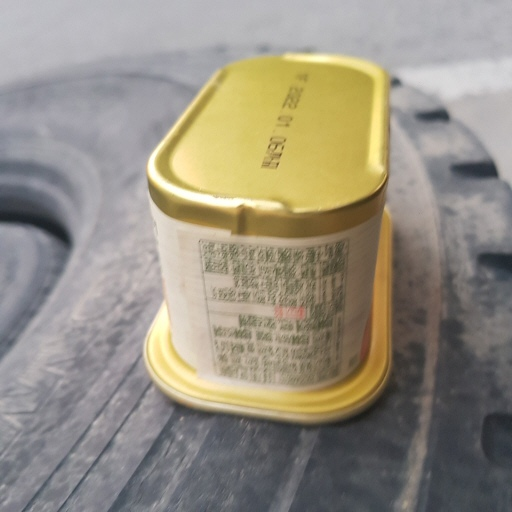Metal_2: (130, 50, 400, 426)
